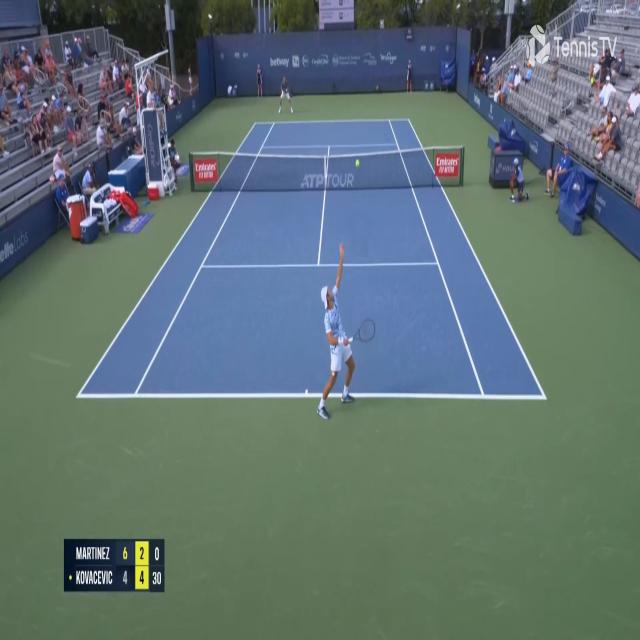tennis-player: (314, 239, 376, 424), (276, 76, 294, 115)
